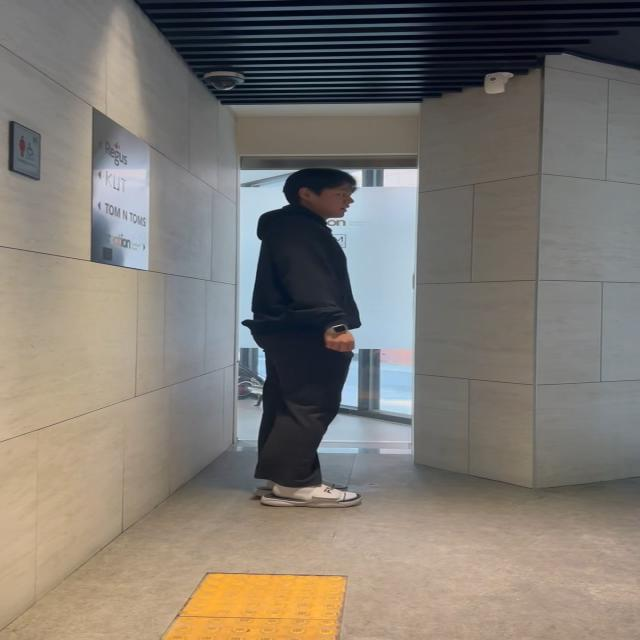leg: (270, 344, 360, 508)
